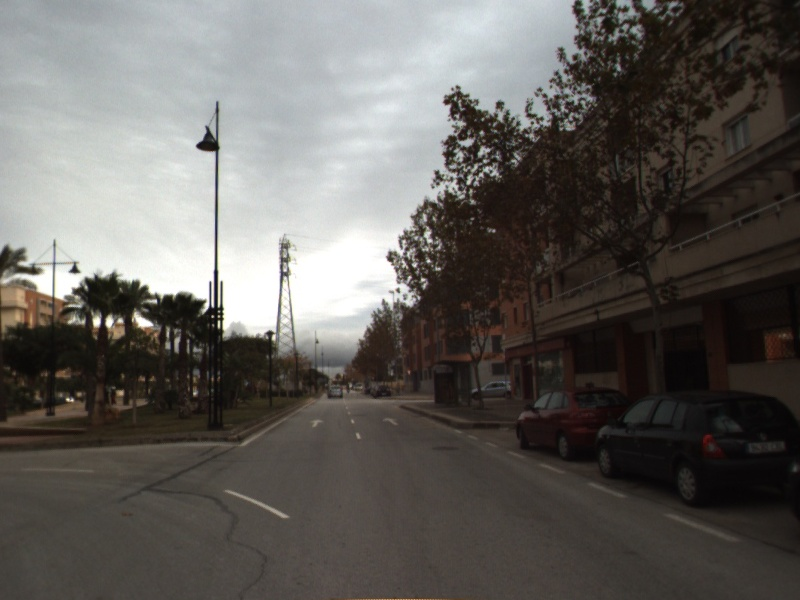STRAIGHT: (381, 415, 401, 427), (308, 417, 326, 429)
